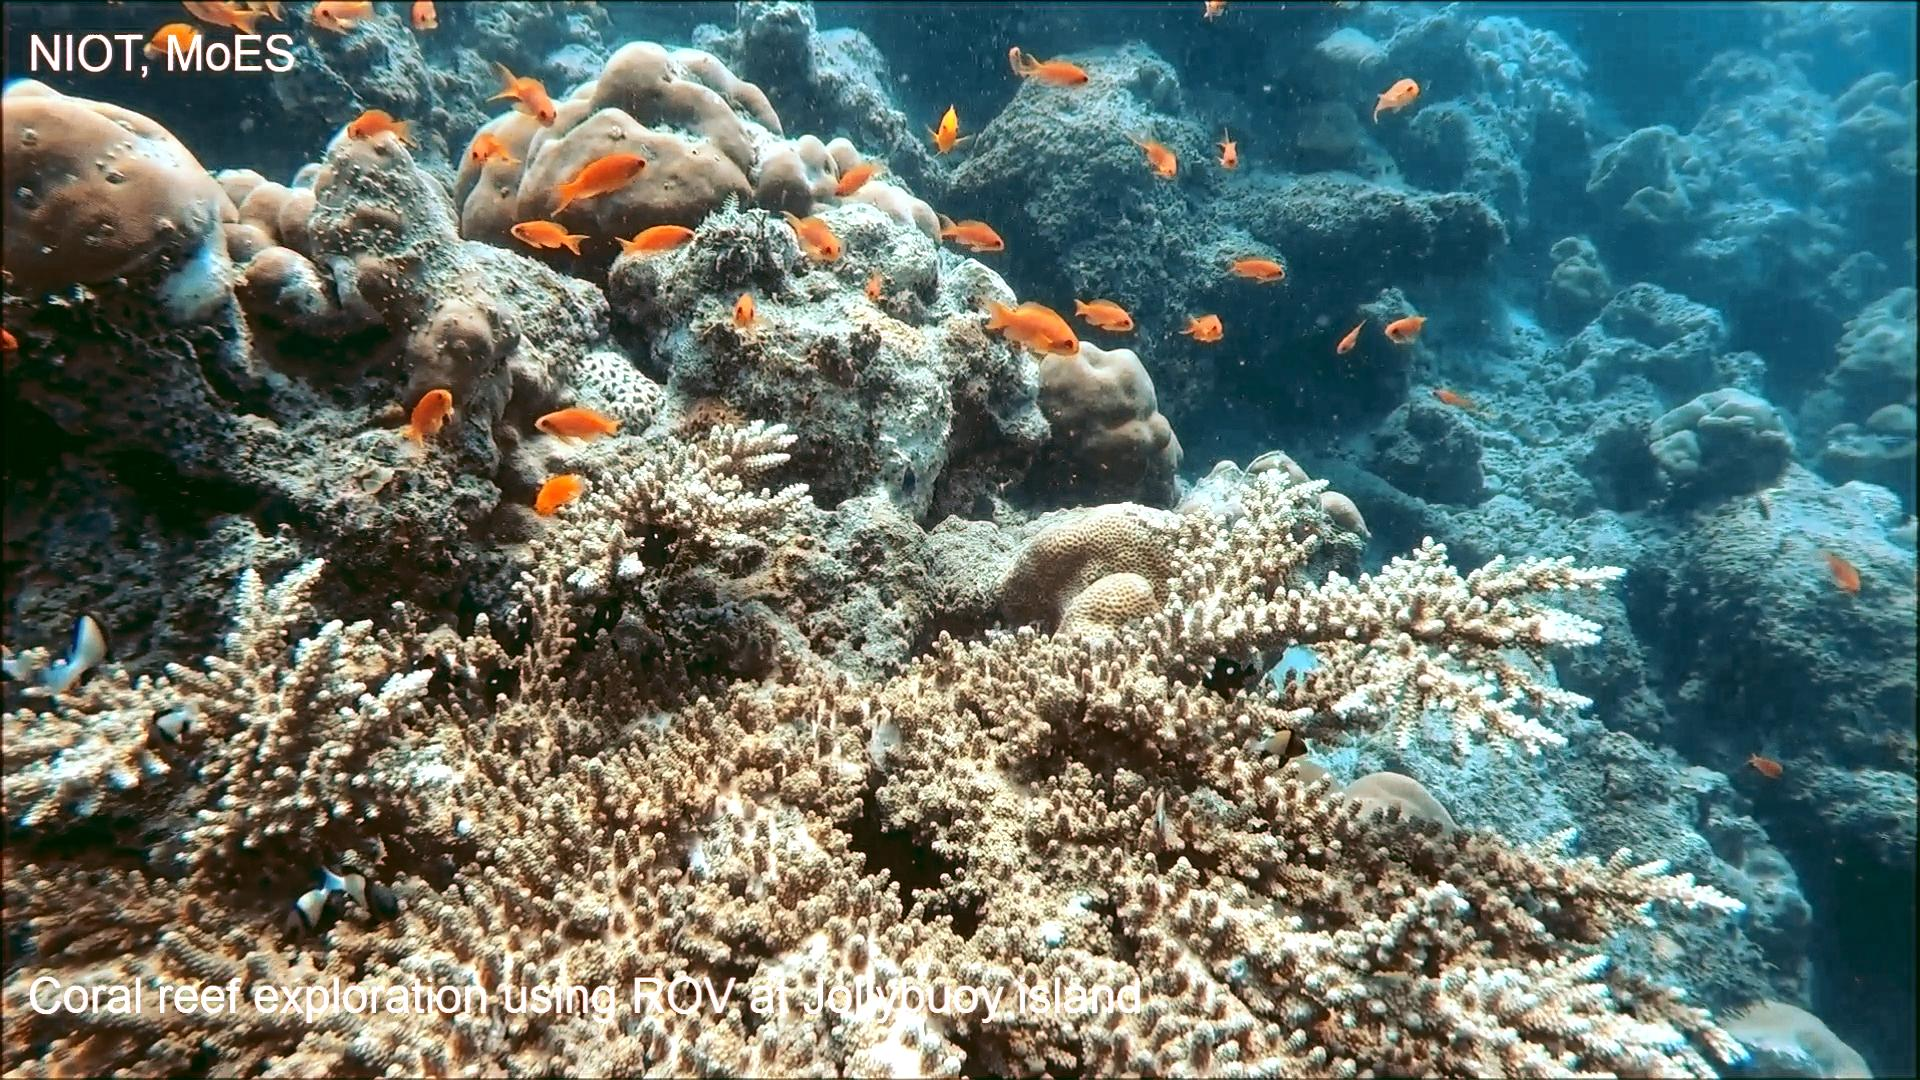Porites-Porites pukoensis: (448, 34, 819, 269), (0, 73, 224, 311)
